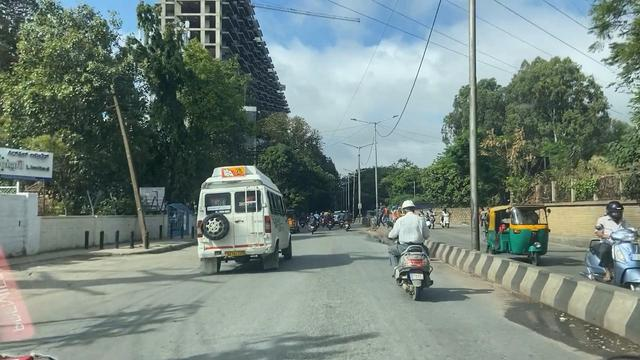HMV: (188, 164, 296, 275)
LMV: (376, 194, 436, 305)
